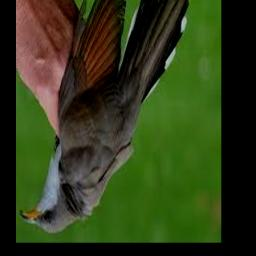Cuckoo: (20, 0, 189, 235)
